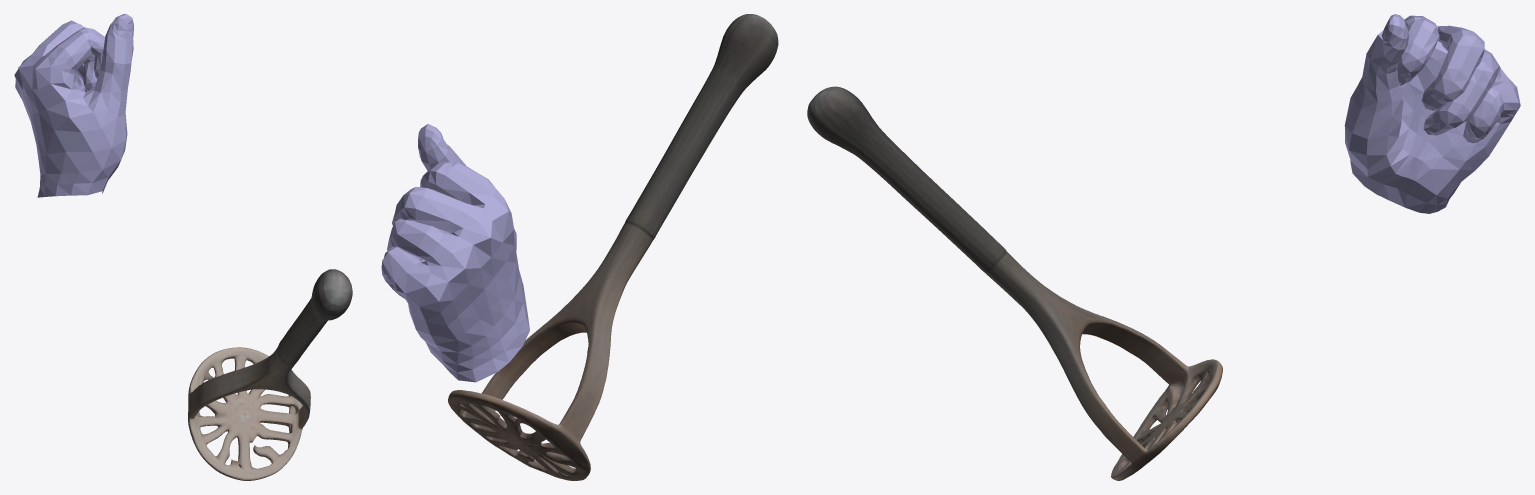
The model's file is frame_0030_source_000030_hand_object.glb.
3 renders of one model, left to right at view 1: azimuth 30°, elevation 25°; view 2: azimuth 150°, elevation 25°; view 3: azimuth 270°, elevation 25°, orthographic. The views are drawn at different scales.
Visible parts, largest first — view 1: world; view 2: world; view 3: world.
Part boxes in pixels (bbox=[...]): world: bbox=[14, 14, 352, 480]; world: bbox=[381, 14, 778, 480]; world: bbox=[807, 14, 1520, 480].
Bounding box in the file's own units: 0.1083 × 0.2558 × 0.3678.
